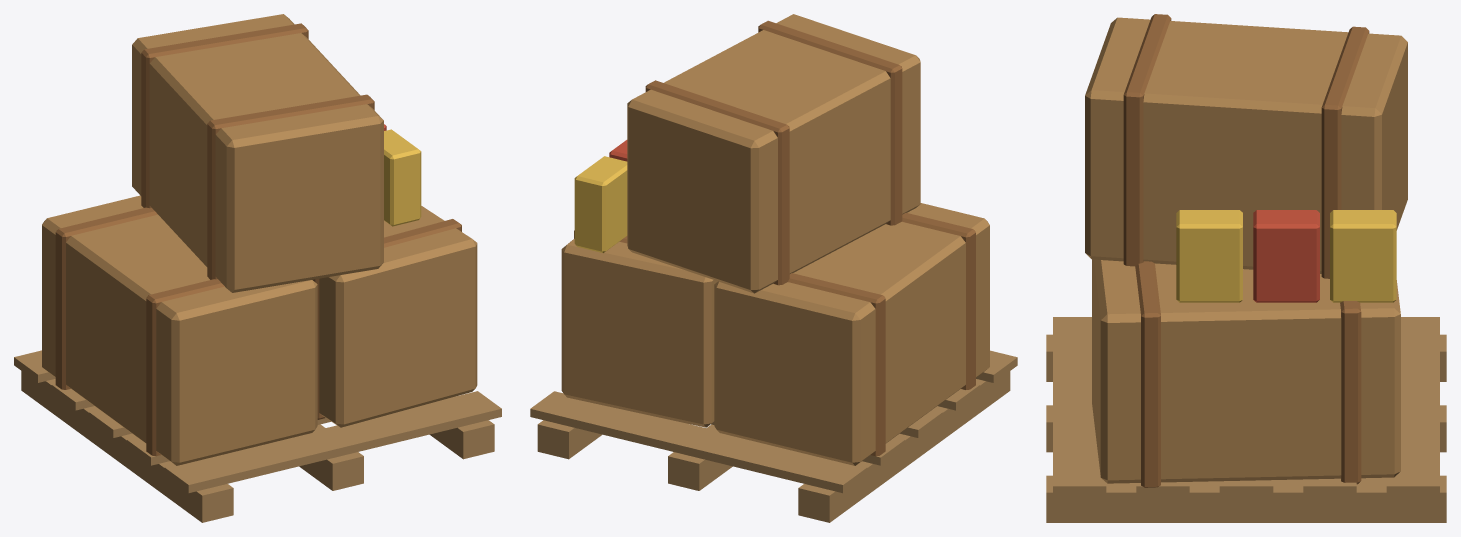
Rendered from sm_env_service_crates.glb.
The picture shows the model from 3 angles, left to right: view 1: azimuth 30°, elevation 25°; view 2: azimuth 150°, elevation 25°; view 3: azimuth 270°, elevation 25°; orthographic projection. The views are drawn at different scales.
Parts seen in each view (by area): view 1: Crate.002, Crate, Crate.001, PalletBoard.004, PalletRunner, OilCan.002, CrateSlat.005, CrateSlat.004, CrateSlat, CrateSlat.001, PalletRunner.001, PalletRunner.002 (+4 smaller); view 2: Crate.002, Crate, Crate.001, PalletBoard, PalletRunner, OilCan, CrateSlat.005, CrateSlat.004, CrateSlat, CrateSlat.001, PalletRunner.001, PalletRunner.002 (+2 smaller); view 3: Crate.002, Crate.001, PalletRunner.002, PalletBoard.004, PalletBoard, OilCan.002, OilCan.001, OilCan, CrateSlat.005, CrateSlat.003, CrateSlat.004, CrateSlat.002 (+5 smaller).
Part boxes in pixels (x1,y1,x2,y2): Crate.002: [132, 14, 383, 292]; Crate: [42, 195, 317, 465]; Crate.001: [319, 206, 477, 427]; PalletBoard.004: [164, 391, 501, 492]; PalletRunner: [21, 371, 233, 522]; OilCan.002: [384, 129, 421, 226]; CrateSlat.005: [207, 94, 374, 279]; CrateSlat.004: [141, 23, 308, 208]; CrateSlat: [55, 207, 157, 389]; CrateSlat.001: [146, 279, 224, 456]; PalletRunner.001: [299, 424, 363, 490]; PalletRunner.002: [429, 420, 494, 459]; Crate.002: [627, 14, 920, 293]; Crate: [714, 203, 989, 465]; Crate.001: [561, 238, 717, 427]; PalletBoard: [530, 391, 867, 493]; PalletRunner: [798, 371, 1010, 522]; OilCan: [574, 156, 627, 253]; CrateSlat.005: [758, 20, 902, 225]; CrateSlat.004: [645, 80, 789, 285]; CrateSlat: [788, 273, 885, 456]; CrateSlat.001: [902, 212, 975, 389]; PalletRunner.001: [668, 424, 732, 490]; PalletRunner.002: [537, 420, 601, 459]; Crate.002: [1085, 17, 1407, 273]; Crate.001: [1092, 259, 1400, 483]; PalletRunner.002: [1046, 475, 1446, 522]; PalletBoard.004: [1053, 317, 1106, 495]; PalletBoard: [1386, 317, 1439, 495]; OilCan.002: [1176, 210, 1242, 302]; OilCan.001: [1253, 210, 1319, 302]; OilCan: [1330, 210, 1396, 302]; CrateSlat.005: [1123, 14, 1171, 266]; CrateSlat.003: [1135, 261, 1160, 487]; CrateSlat.004: [1321, 26, 1369, 278]; CrateSlat.002: [1340, 301, 1361, 484].
Bounding box in the file's own units: 1.21 × 1.27 × 1.2.
